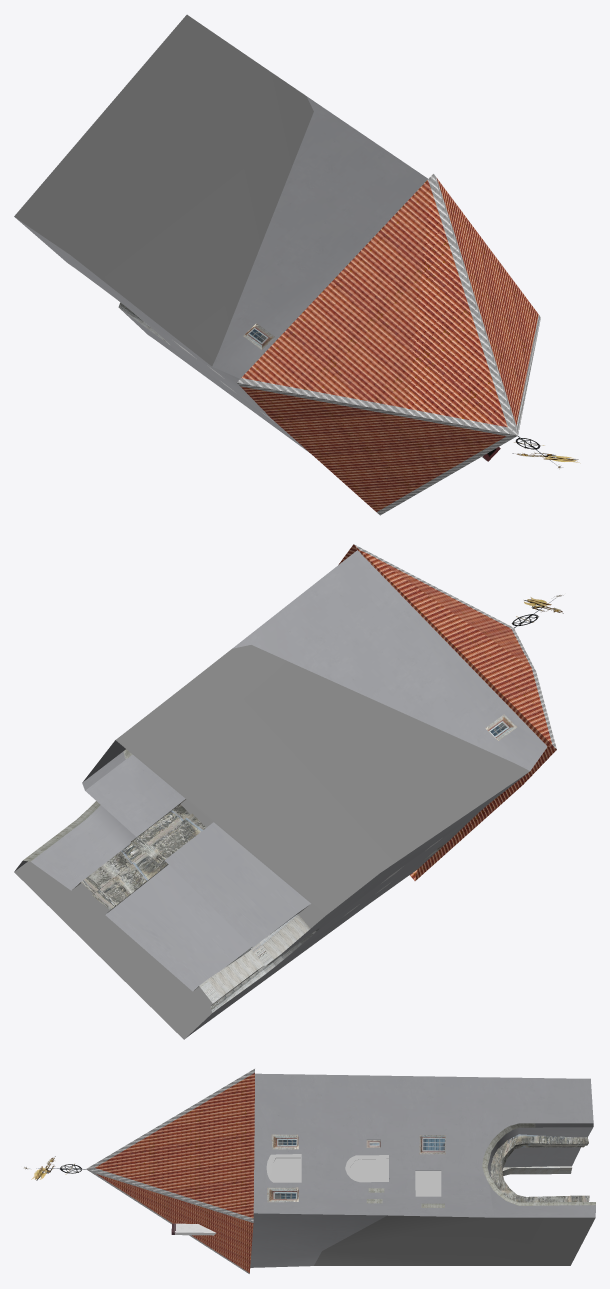
Rendered from Pikk_jalg_1.obj.
3 renders of one model, top to bottom at view 1: azimuth 30°, elevation 25°; view 2: azimuth 150°, elevation 25°; view 3: azimuth 270°, elevation 25°, orthographic. The views are drawn at different scales.
Visible parts, largest first — view 1: Pikk_jalg_1; view 2: Pikk_jalg_1; view 3: Pikk_jalg_1.
Boxes of the visible parts, bbox=[...] form: Pikk_jalg_1: bbox=[14, 14, 580, 515]; Pikk_jalg_1: bbox=[14, 544, 563, 1039]; Pikk_jalg_1: bbox=[23, 1069, 595, 1273].
Size of the model in its own units: 12.98 by 13.18 by 30.83.
